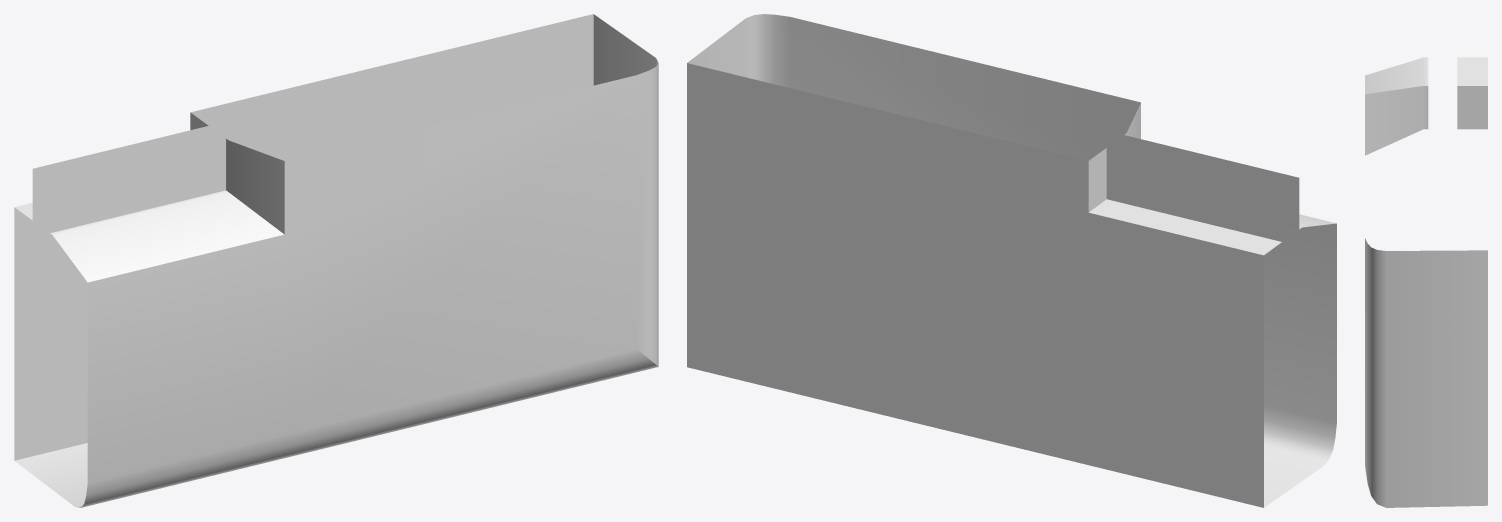
The model's file is original-37.obj.
The picture shows the model from 3 angles, left to right: view 1: azimuth 30°, elevation 25°; view 2: azimuth 150°, elevation 25°; view 3: azimuth 270°, elevation 25°; orthographic projection. The views are drawn at different scales.
Visible parts, largest first — view 1: DF_11_BR1/DF_11_BR/mesh25/mesh25-geometry#mesh25-geometry; view 2: DF_11_BR1/DF_11_BR/mesh25/mesh25-geometry#mesh25-geometry; view 3: DF_11_BR1/DF_11_BR/mesh25/mesh25-geometry#mesh25-geometry.
Part boxes in pixels (x1,y1,x2,y2): DF_11_BR1/DF_11_BR/mesh25/mesh25-geometry#mesh25-geometry: (14,14,658,507); DF_11_BR1/DF_11_BR/mesh25/mesh25-geometry#mesh25-geometry: (687,14,1336,507); DF_11_BR1/DF_11_BR/mesh25/mesh25-geometry#mesh25-geometry: (1365,57,1487,507).
Size of the model in its own units: 0.1444 by 0.073 by 0.0316.
